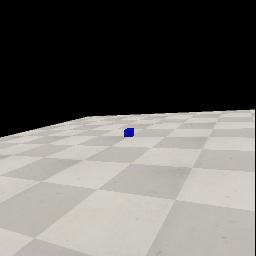box: (124, 128, 134, 137)
